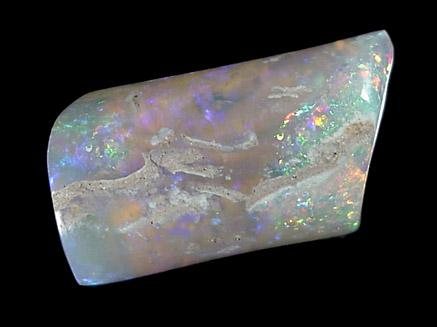opal: (48, 32, 394, 285)
